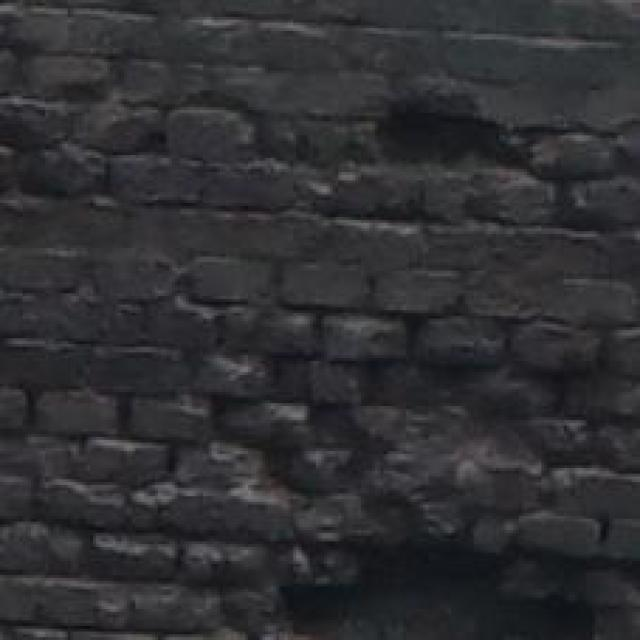Crack: (36, 253, 637, 640)
